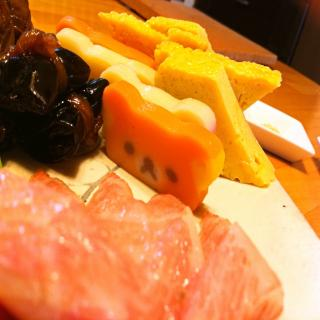Cheese: (98, 10, 283, 188)
